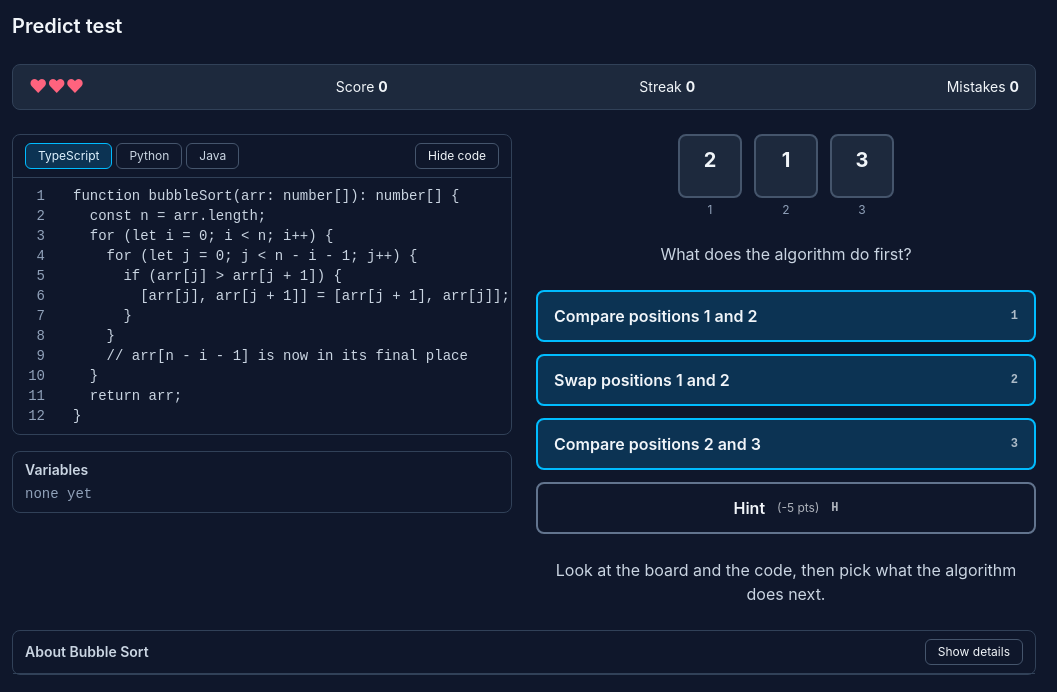
it: PredictScreen › a wrong answer costs a life and names the right step
Click the button "Swap positions 1 and 2 2" at {"x": 642, "y": 380}, box [536,354,1036,406]
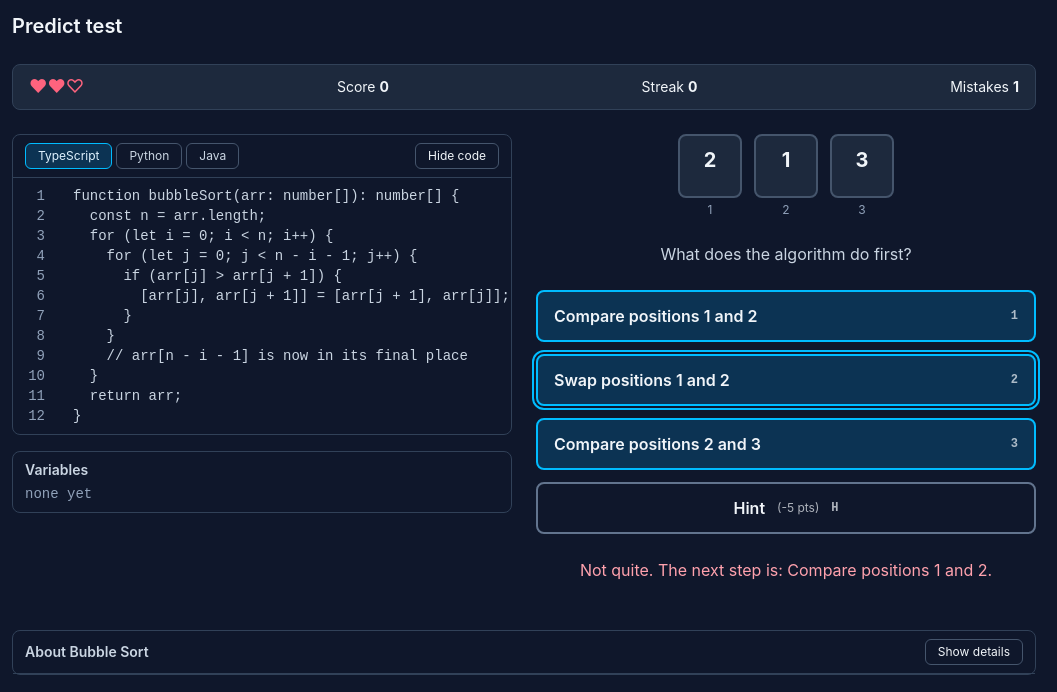
Expected: the picture named "Lives: 2 of 3" is shown, [29,73,84,101]
Expected: the text "Not quite. The next step is: Compare positions 1 and 2." is shown, [580,560,992,580]
